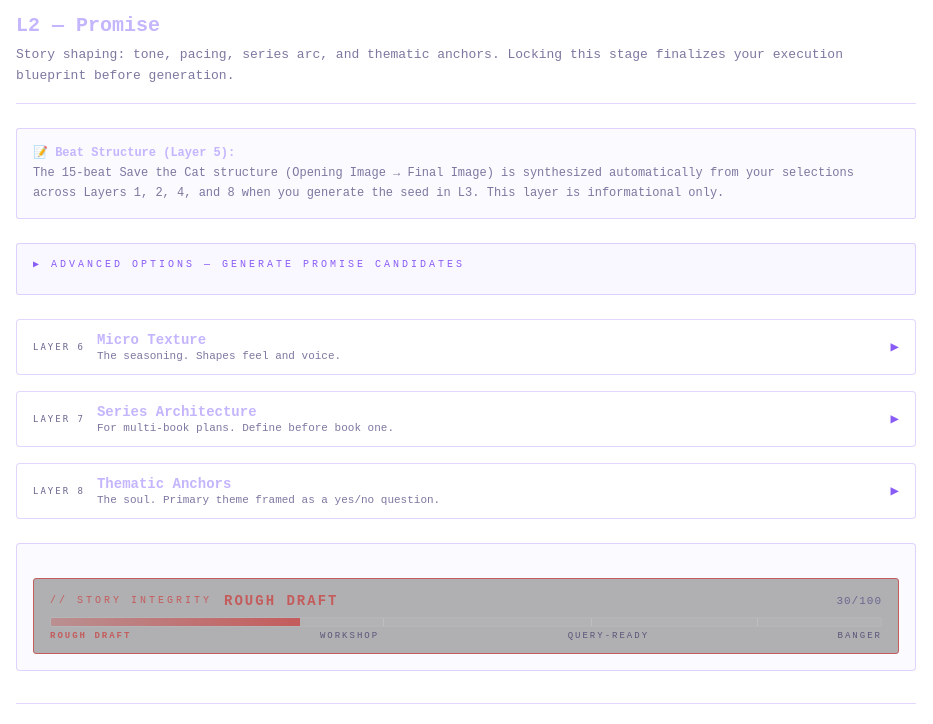
Scenario: L2Promise › displays locked seed artifact from L1
The image size is (933, 724).
# Open advanced options
Click the text "▶ ADVANCED OPTIONS — GENERATE PROMISE CANDIDATES": (249, 264) [33,259,465,270]
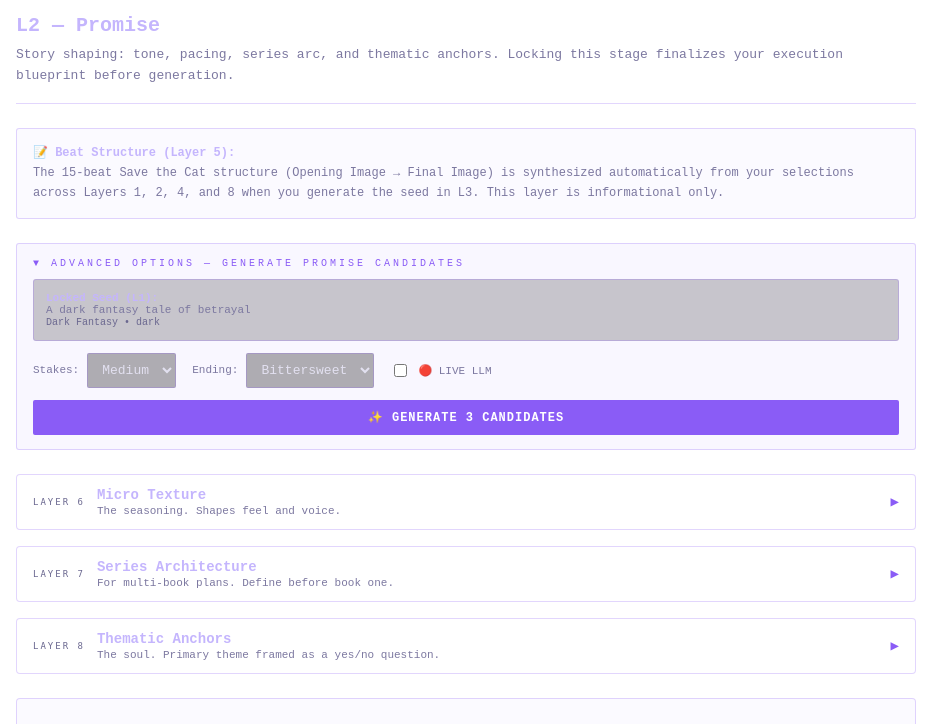
Now the text "A dark fantasy tale of betrayal" is shown, box [46,304,251,316]
